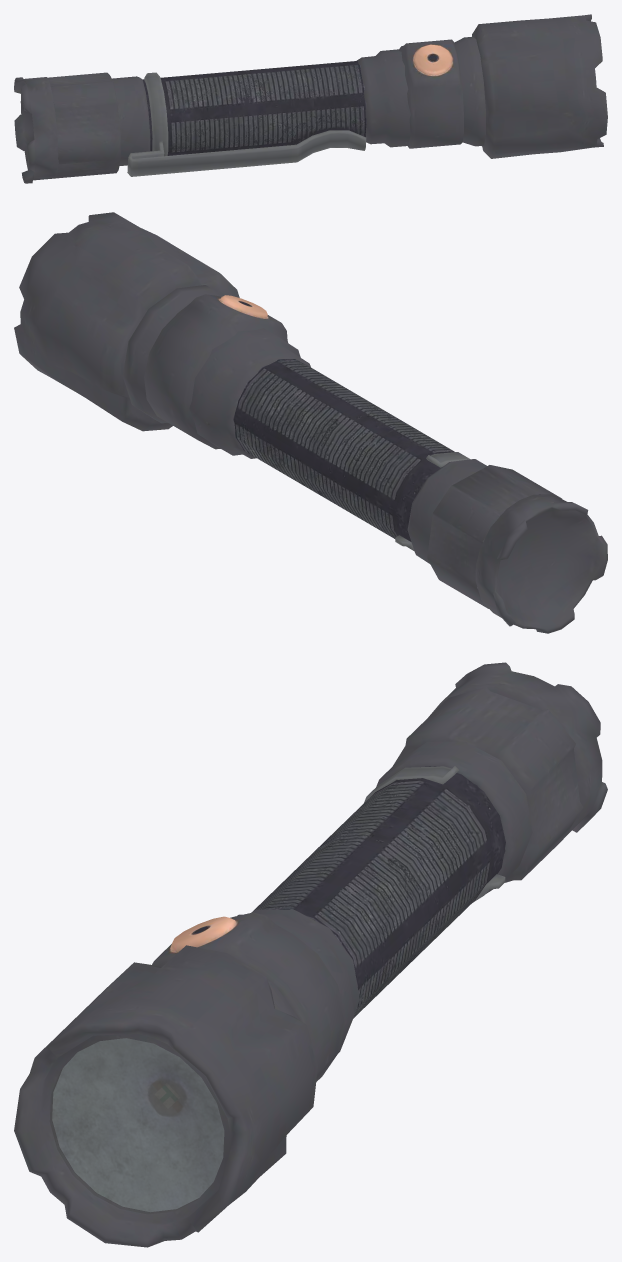
The model's file is flashlight (1).glb.
3 renders of one model, top to bottom at view 1: azimuth 30°, elevation 25°; view 2: azimuth 150°, elevation 25°; view 3: azimuth 270°, elevation 25°, orthographic. The views are drawn at different scales.
Parts seen in each view (by area): view 1: SM_Flashlight_V01_0; view 2: SM_Flashlight_V01_0; view 3: SM_Flashlight_V01_0.
Boxes of the visible parts, x1,y1,x2,y2 form: SM_Flashlight_V01_0: (14,14,607,183); SM_Flashlight_V01_0: (14,212,607,633); SM_Flashlight_V01_0: (14,662,607,1247).
Bounding box in the file's own units: 0.1303 × 0.0306 × 0.0734.
Materials: 1 (1 with a texture image).
